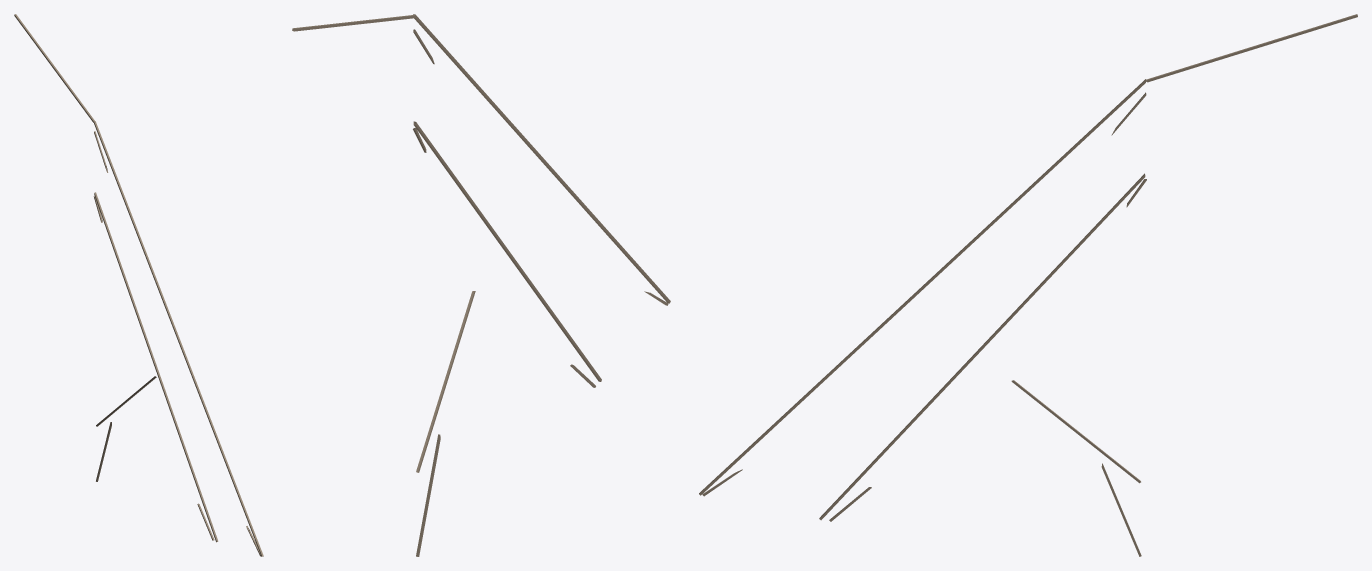
Rendered from SM_Veh_Boat_Large_Front_SailRigging_01.glb.
The picture shows the model from 3 angles, left to right: view 1: azimuth 30°, elevation 25°; view 2: azimuth 150°, elevation 25°; view 3: azimuth 270°, elevation 25°; orthographic projection. The views are drawn at different scales.
Visible parts, largest first — view 1: SM_Veh_Boat_Large_Front_SailRigging_01; view 2: SM_Veh_Boat_Large_Front_SailRigging_01; view 3: SM_Veh_Boat_Large_Front_SailRigging_01.
Part boxes in pixels (x1=…): SM_Veh_Boat_Large_Front_SailRigging_01: x1=14, y1=14, x2=263, y2=556; SM_Veh_Boat_Large_Front_SailRigging_01: x1=292, y1=14, x2=670, y2=556; SM_Veh_Boat_Large_Front_SailRigging_01: x1=699, y1=14, x2=1357, y2=556.
Size of the model in its own units: 0.00628 by 0.1984 by 0.2186.
1 material, 1 textured.
